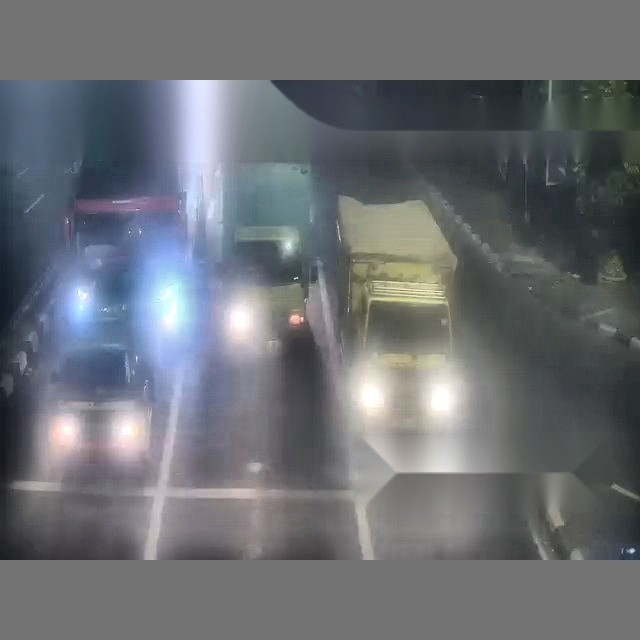Bis: (18, 82, 326, 478)
